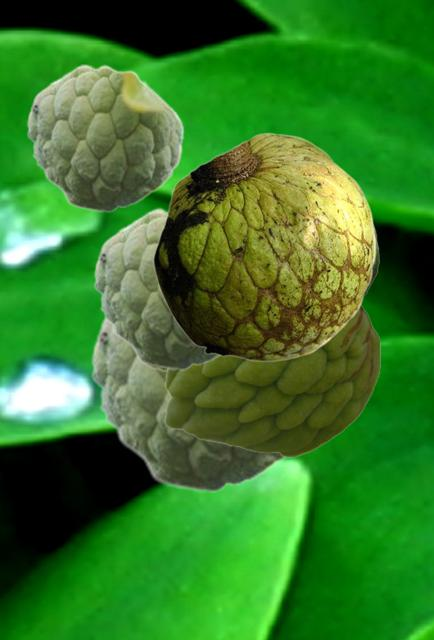atis: (152, 132, 375, 361), (90, 315, 291, 491), (164, 304, 379, 456), (26, 64, 184, 211), (93, 209, 220, 369)
